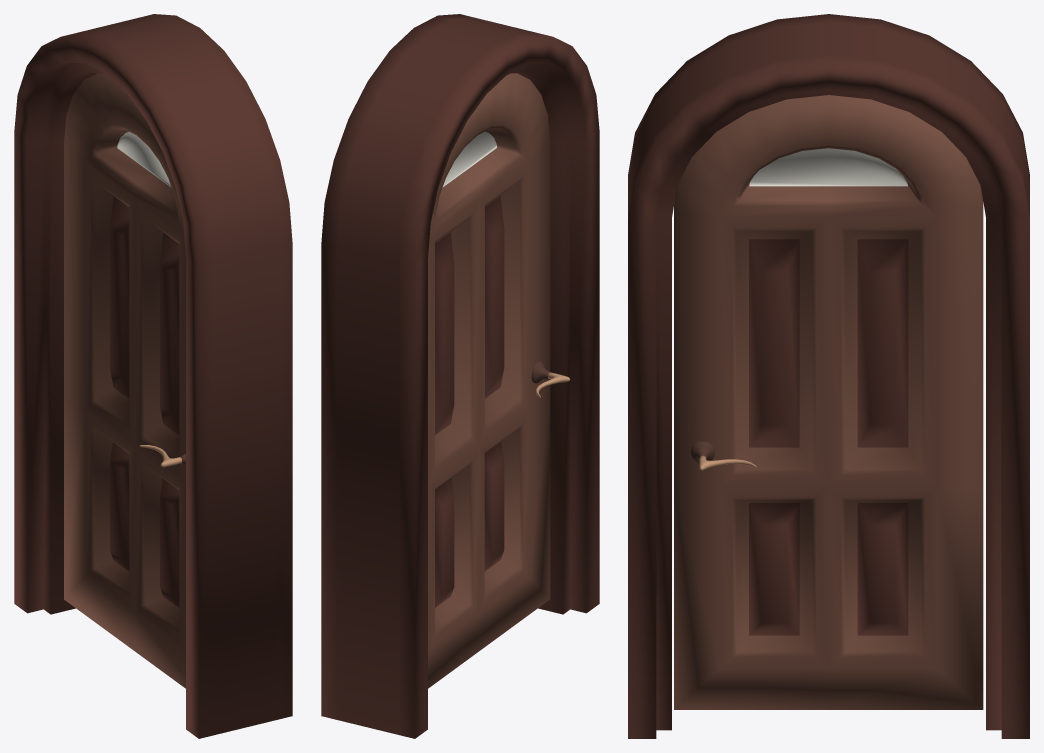
File: BathDoor.fbx
3 views of the same model, side by side, from view 1: azimuth 30°, elevation 25°; view 2: azimuth 150°, elevation 25°; view 3: azimuth 270°, elevation 25° (orthographic). The views are drawn at different scales.
Parts seen in each view (by area): view 1: Door_Bath_Frame, Door_Bath_Body; view 2: Door_Bath_Frame, Door_Bath_Body, Door_Bath_Handle_01; view 3: Door_Bath_Body, Door_Bath_Frame, Door_Bath_Handle_02.
Part boxes in pixels (x1,y1,x2,y2): Door_Bath_Frame: (14,14,292,738); Door_Bath_Body: (64,73,185,688); Door_Bath_Frame: (321,14,599,738); Door_Bath_Body: (428,73,550,688); Door_Bath_Handle_01: (531,361,569,397); Door_Bath_Body: (674,95,983,709); Door_Bath_Frame: (628,14,1029,738); Door_Bath_Handle_02: (690,441,756,470).
Bounding box in the file's own units: 801 × 4650 × 2507.
